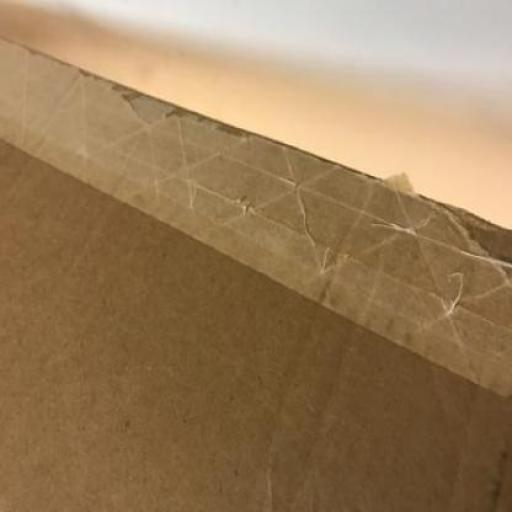cardboard: (0, 34, 511, 511)
